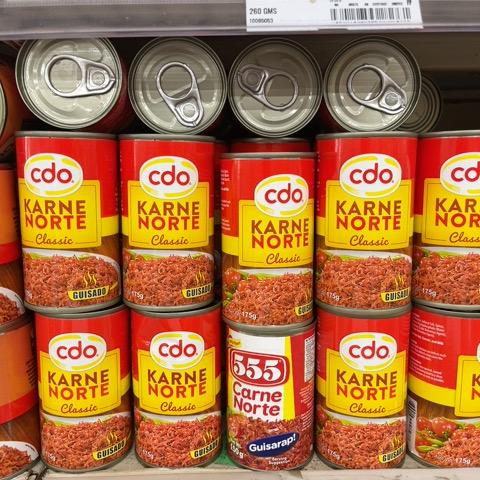canned-goods: (11, 124, 124, 313), (217, 147, 324, 334), (315, 127, 419, 315), (117, 130, 223, 314), (33, 303, 131, 476), (314, 302, 410, 475), (125, 304, 225, 468), (225, 321, 319, 476), (414, 124, 480, 314), (14, 36, 126, 131), (225, 33, 323, 139), (125, 37, 228, 136), (324, 34, 422, 132)
